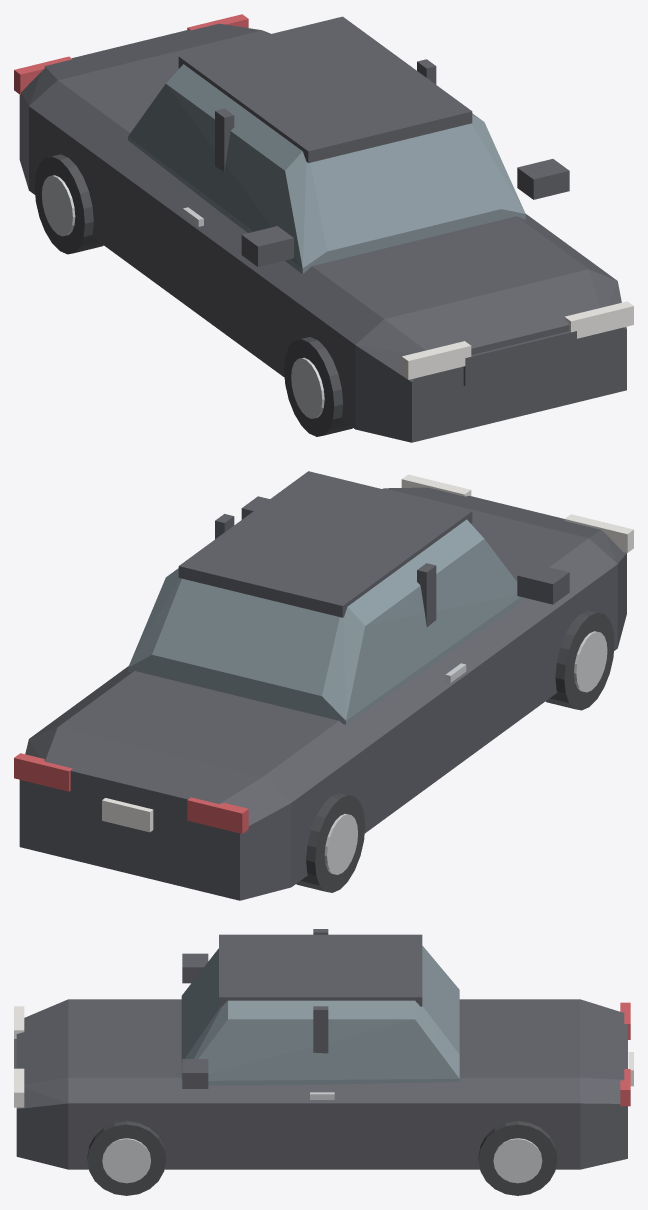
The picture shows the model from 3 angles, top to bottom: view 1: azimuth 30°, elevation 25°; view 2: azimuth 150°, elevation 25°; view 3: azimuth 270°, elevation 25°; orthographic projection. The views are drawn at different scales.
Parts seen in each view (by area): view 1: body, cabin_glass, roof, grille, wheel_-1_-1_tire, wheel_-1_1_tire, headlight_-1, mirror_-1, mirror_1, headlight_1, wheel_-1_1_rim, wheel_-1_-1_rim (+2 smaller); view 2: body, cabin_glass, roof, wheel_-1_1_tire, wheel_-1_-1_tire, mirror_-1, taillight_-1, wheel_-1_1_rim, wheel_-1_-1_rim, taillight_1, rear_plate, headlight_-1 (+2 smaller); view 3: body, cabin_glass, roof, wheel_1_-1_tire, wheel_1_1_tire, wheel_1_-1_rim, wheel_1_1_rim, mirror_1, pillar_1, mirror_-1, headlight_1.
Part boxes in pixels (x1,y1,x2,y2): body: (19, 23, 626, 442); cabin_glass: (128, 64, 525, 274); roof: (178, 16, 472, 162); grille: (463, 331, 576, 386); wheel_-1_-1_tire: (34, 154, 103, 254); wheel_-1_1_tire: (284, 337, 352, 436); headlight_-1: (401, 341, 471, 379); mirror_-1: (241, 226, 293, 266); mirror_1: (517, 159, 569, 199); headlight_1: (564, 301, 633, 338); wheel_-1_1_rim: (291, 357, 324, 418); wheel_-1_-1_rim: (41, 175, 75, 236); body: (19, 487, 626, 900); cabin_glass: (128, 519, 525, 724); roof: (178, 471, 472, 617); wheel_-1_1_tire: (546, 610, 614, 710); wheel_-1_-1_tire: (296, 793, 365, 892); mirror_-1: (517, 563, 569, 604); taillight_-1: (187, 797, 248, 833); wheel_-1_1_rim: (574, 631, 607, 692); wheel_-1_-1_rim: (324, 814, 357, 874); taillight_1: (14, 753, 72, 791); rear_plate: (102, 798, 153, 832); headlight_-1: (564, 514, 633, 552); body: (16, 999, 627, 1169); cabin_glass: (181, 945, 459, 1085); roof: (219, 934, 422, 1006); wheel_1_-1_tire: (478, 1121, 557, 1195); wheel_1_1_tire: (87, 1121, 165, 1195); wheel_1_-1_rim: (493, 1138, 542, 1183); wheel_1_1_rim: (102, 1138, 150, 1183); mirror_1: (182, 1059, 208, 1088); pillar_1: (313, 1006, 328, 1053); mirror_-1: (182, 953, 208, 983); headlight_1: (14, 1068, 24, 1107).
Size of the model in its own units: 2.08 by 1.43 by 4.57.
